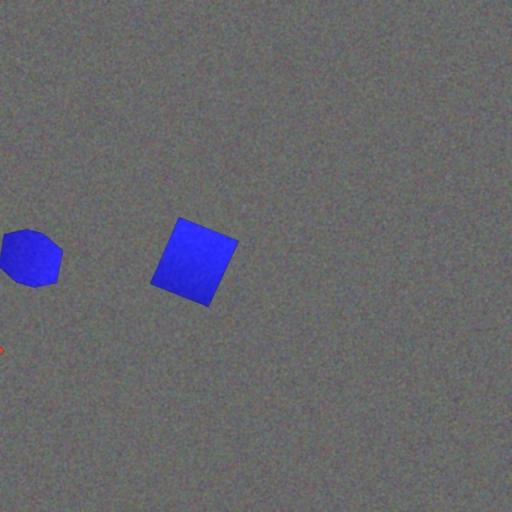BLUE_SQUARE: (149, 216, 240, 308)
